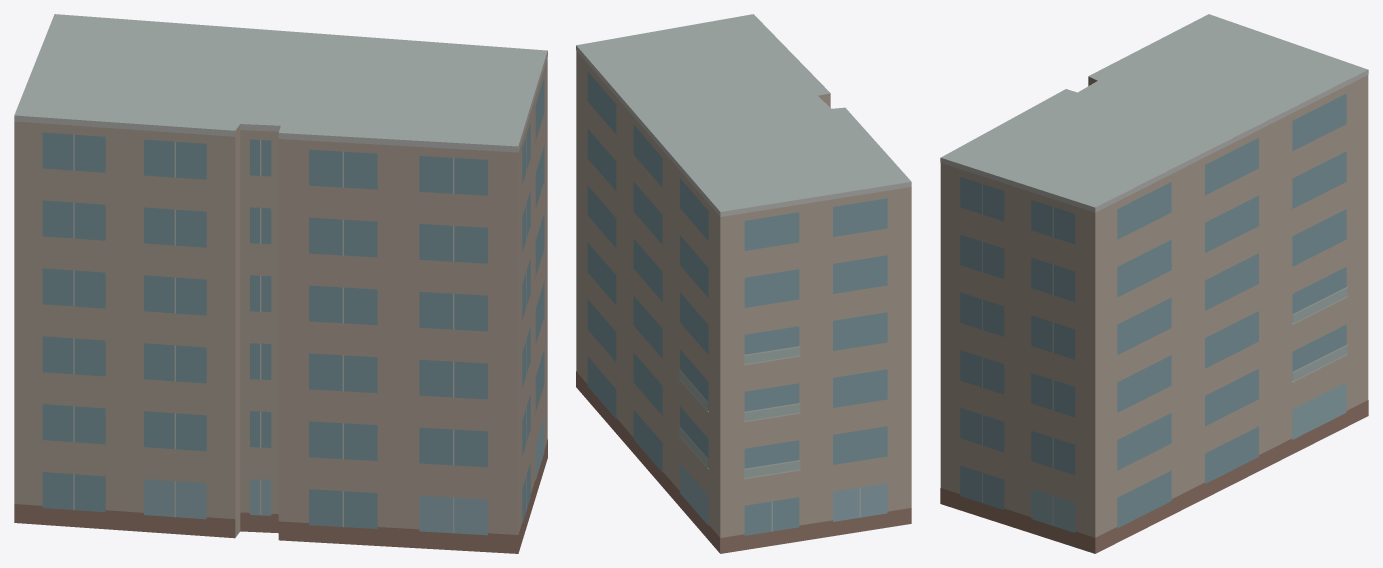
The model's file is survey-upis-32671522.glb.
3 renders of one model, left to right at view 1: azimuth 30°, elevation 25°; view 2: azimuth 150°, elevation 25°; view 3: azimuth 270°, elevation 25°, orthographic. The views are drawn at different scales.
Parts seen in each view (by area): view 1: survey-upis-32671522.tmp; view 2: survey-upis-32671522.tmp; view 3: survey-upis-32671522.tmp.
Part boxes in pixels (bbox=[...]): survey-upis-32671522.tmp: bbox=[14, 14, 547, 553]; survey-upis-32671522.tmp: bbox=[576, 14, 911, 553]; survey-upis-32671522.tmp: bbox=[940, 14, 1368, 553].
Bounding box in the file's own units: 19.91 × 16.6 × 18.6.
